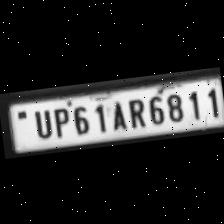1: (181, 86, 204, 120), (199, 84, 222, 118), (88, 98, 110, 132)
6: (67, 100, 92, 136), (142, 91, 166, 125)
8: (161, 88, 186, 123)
A: (105, 96, 128, 131)
P: (48, 103, 71, 136)
R: (122, 94, 146, 129)
U: (29, 104, 54, 138)
